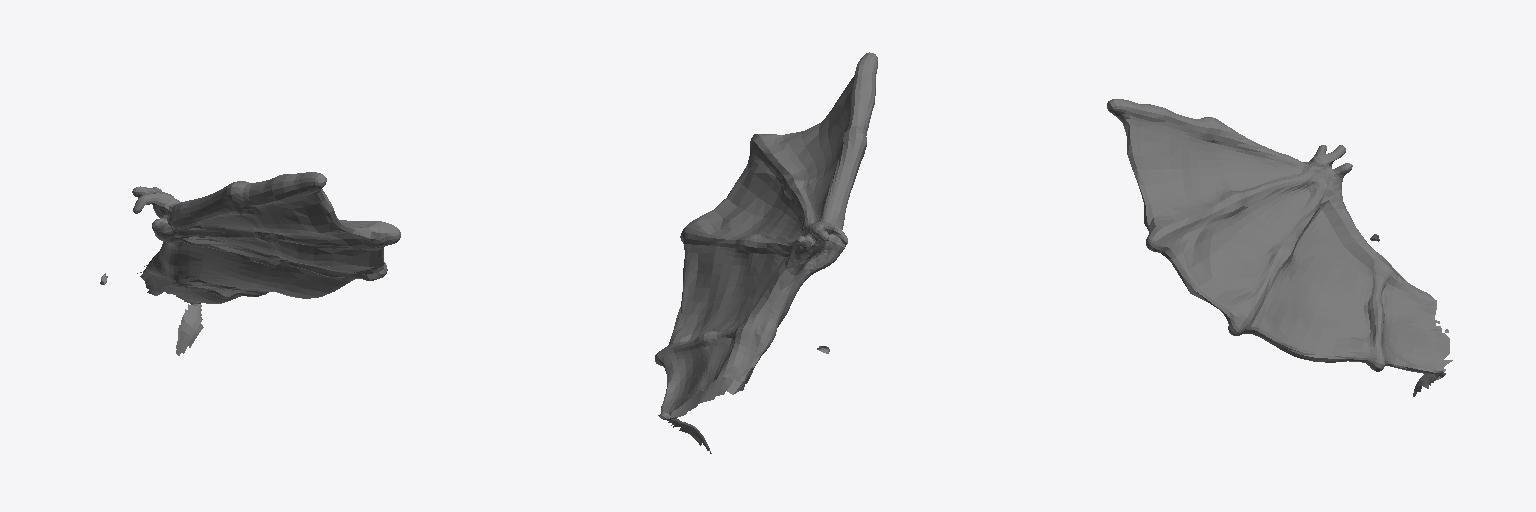
Rendered from ala_izq.obj.
The picture shows the model from 3 angles: view 1: azimuth 30°, elevation 25°; view 2: azimuth 150°, elevation 25°; view 3: azimuth 270°, elevation 25°; orthographic projection.
Parts seen in each view (by area): view 1: ala_izq; view 2: ala_izq; view 3: ala_izq.
Part boxes in pixels (left/top/right/bottom): ala_izq: left=100, top=172, right=400, bottom=355; ala_izq: left=655, top=52, right=877, bottom=453; ala_izq: left=1107, top=99, right=1452, bottom=396.
Bounding box in the file's own units: 6.54 × 8.45 × 9.02.